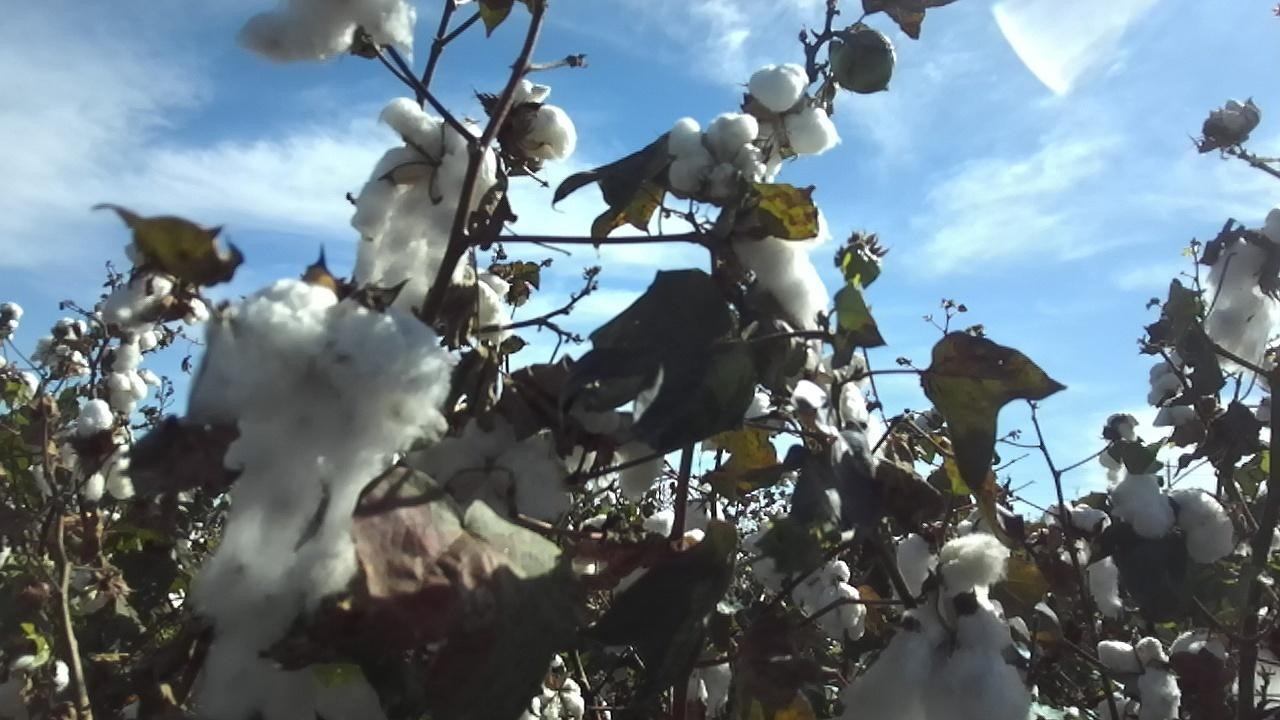cotton_ready: (192, 277, 453, 720), (847, 532, 1044, 720), (351, 97, 497, 319), (1204, 201, 1280, 371), (1112, 466, 1236, 562), (235, 0, 419, 64), (745, 204, 841, 326), (749, 60, 841, 163), (667, 114, 765, 207), (1099, 639, 1182, 720), (506, 80, 579, 169), (797, 560, 868, 638), (439, 271, 513, 331), (1197, 93, 1258, 148)
